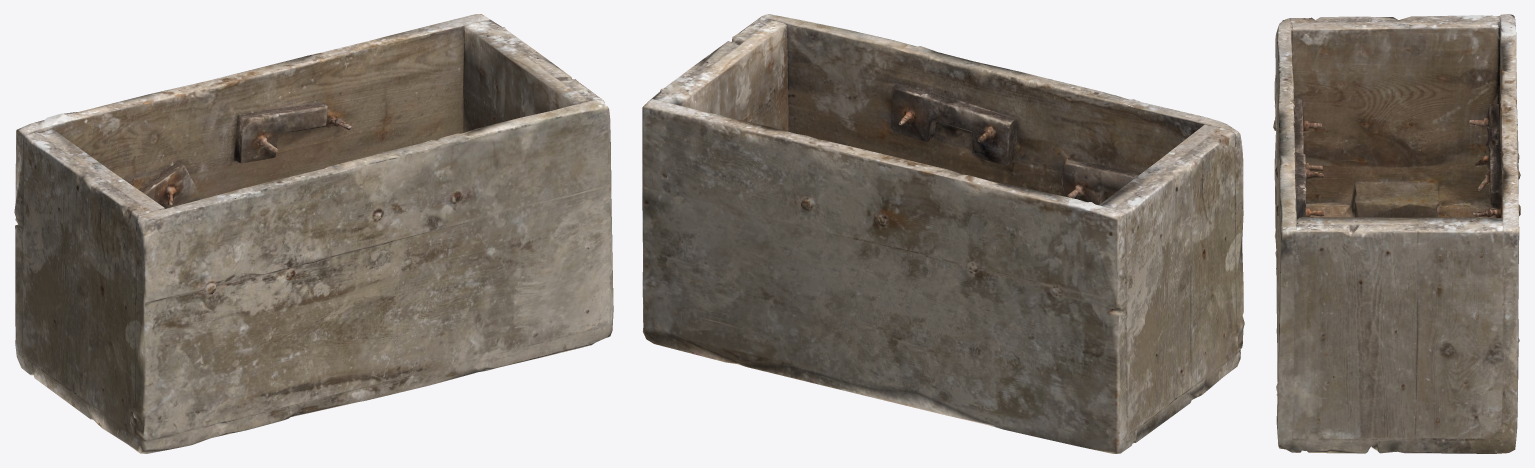
The model's file is asset.glb.
The picture shows the model from 3 angles, left to right: view 1: azimuth 30°, elevation 25°; view 2: azimuth 150°, elevation 25°; view 3: azimuth 270°, elevation 25°; orthographic projection. The views are drawn at different scales.
Visible parts, largest first — view 1: ydytbb1_LOD0_TIER2_000; view 2: ydytbb1_LOD0_TIER2_000; view 3: ydytbb1_LOD0_TIER2_000.
Part boxes in pixels (<box>): ydytbb1_LOD0_TIER2_000: <box>14,14,613,453</box>; ydytbb1_LOD0_TIER2_000: <box>642,14,1244,453</box>; ydytbb1_LOD0_TIER2_000: <box>1273,14,1520,453</box>.
Bounding box in the file's own units: 0.5759 × 0.2798 × 0.275.
1 material, 1 textured.
